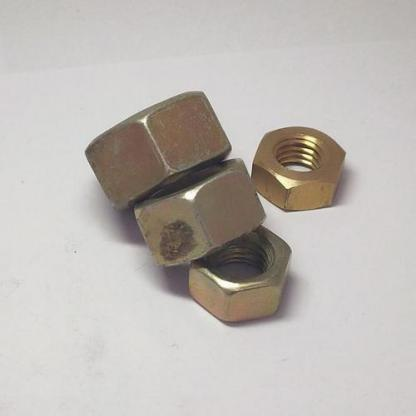FOD: (82, 88, 232, 223), (132, 154, 267, 274), (182, 222, 293, 326), (250, 124, 349, 212)
